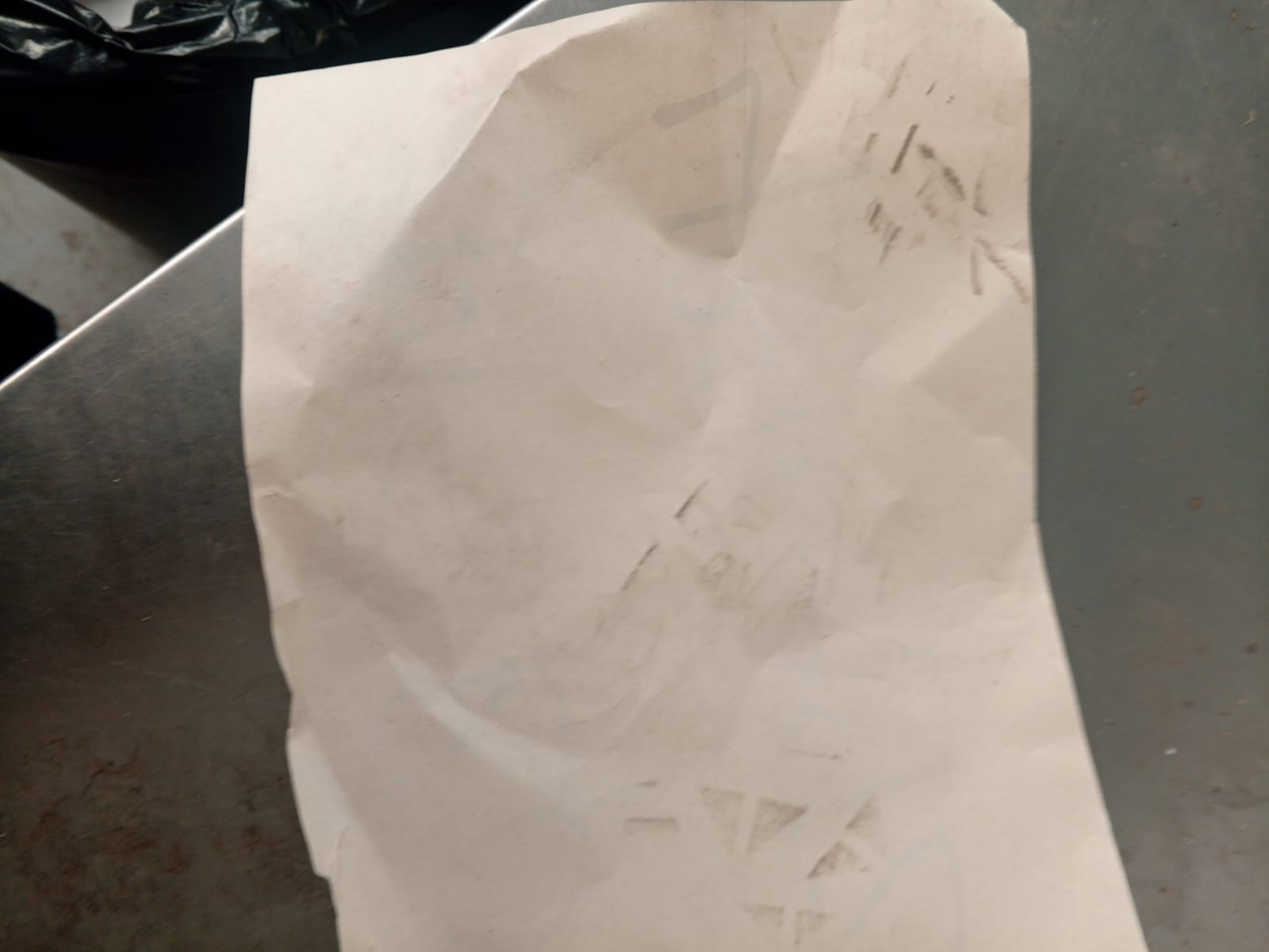Papel: (242, 0, 1156, 952)
